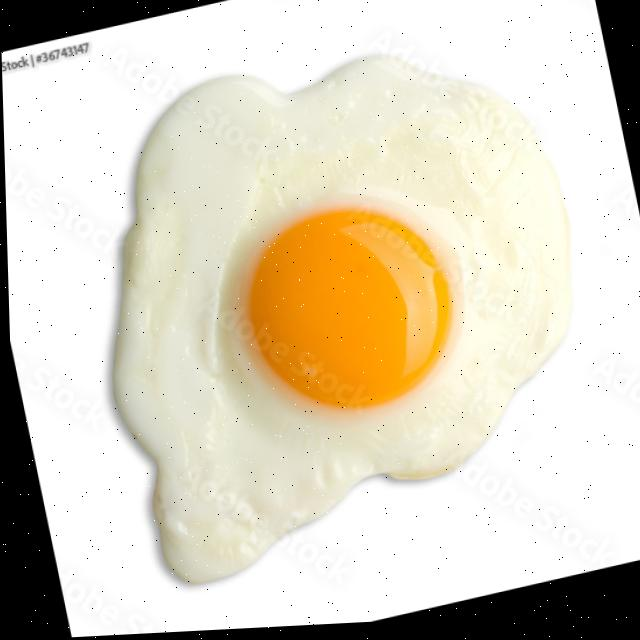Egg: (110, 60, 565, 584)
